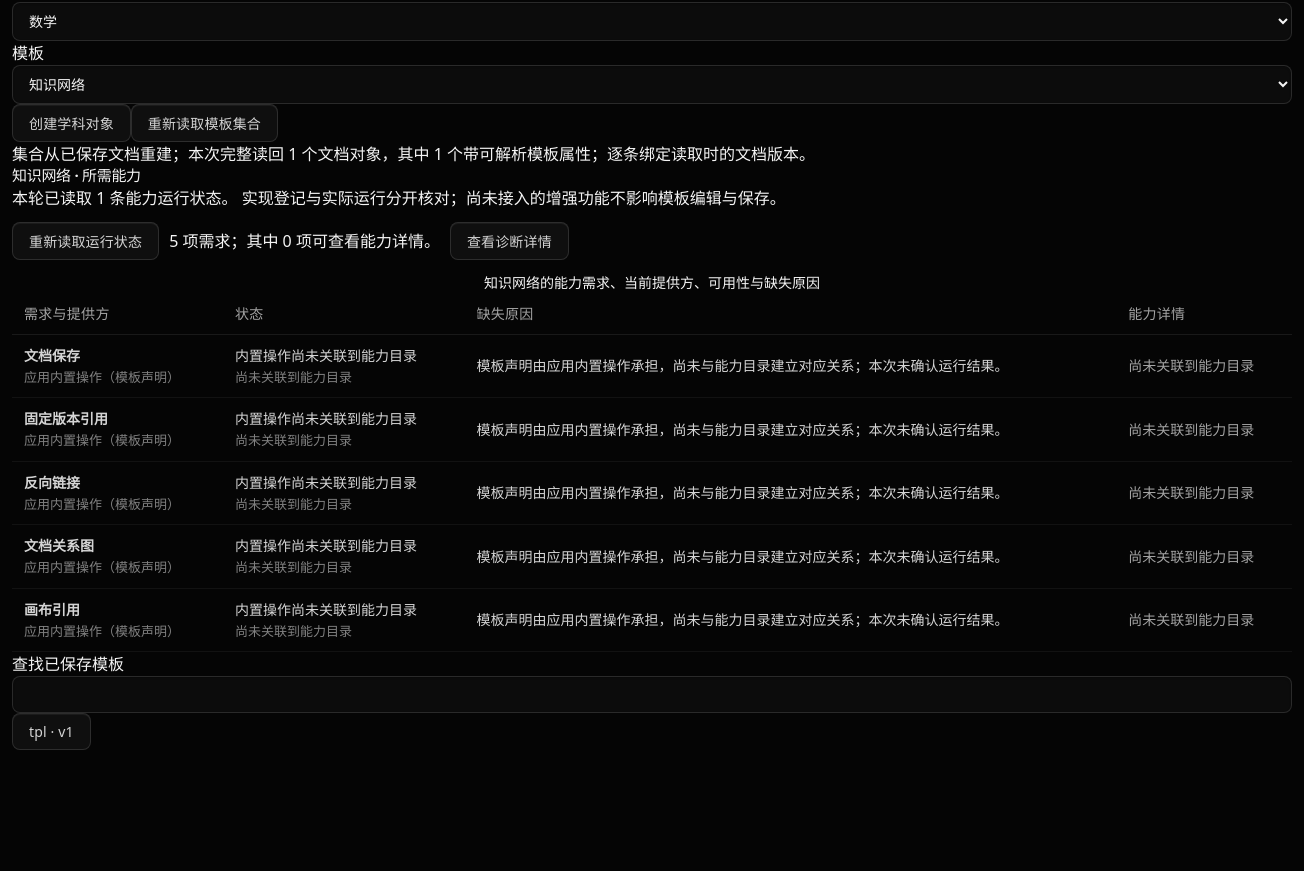
Test: template detail renders the requirement table › does not promote a connection observation into a successful template task: {"enabled":true,"health":"starting"}
This screenshot has width=1304, height=871.
Click the button "tpl · v1": (51, 732) [12,713,91,750]
(page scrolled)
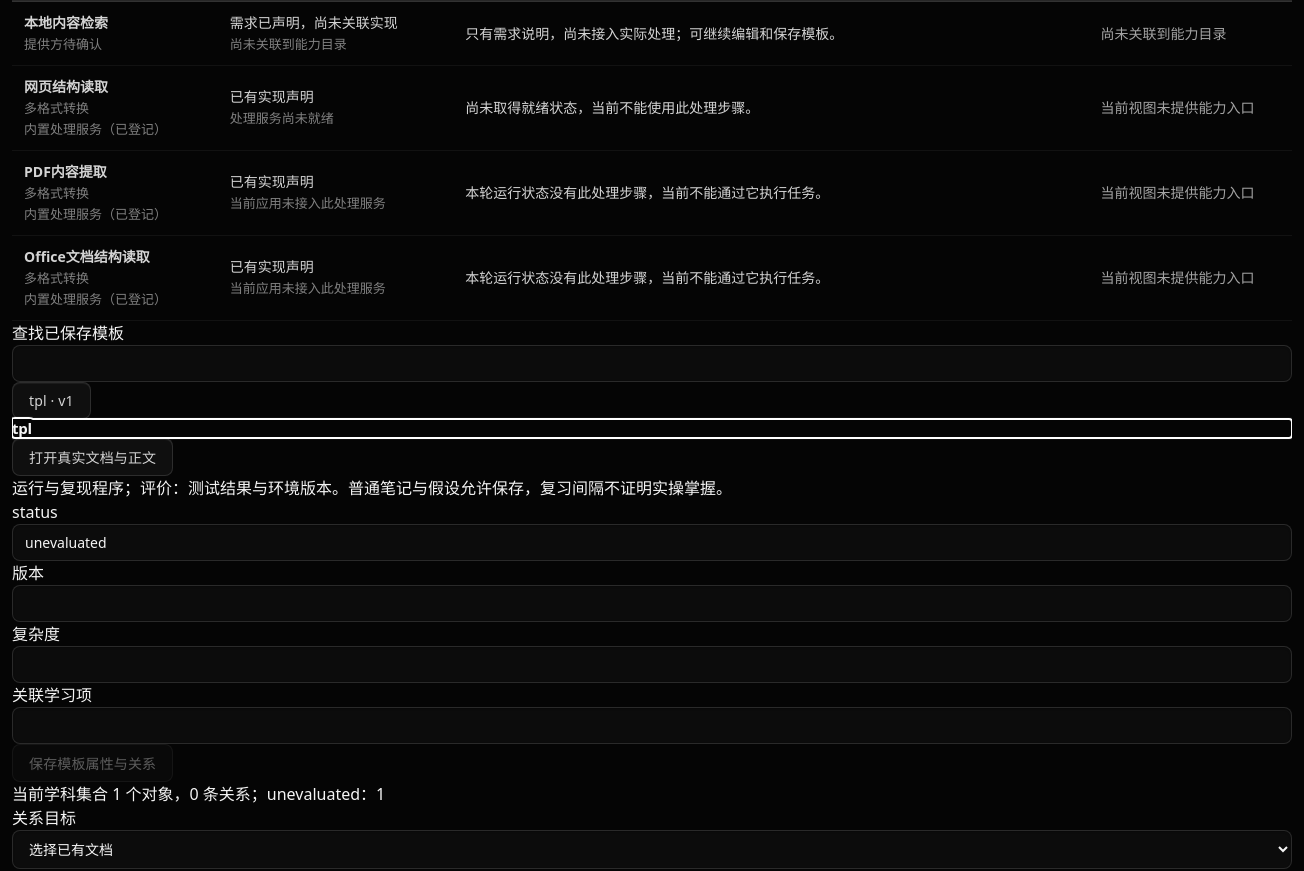
Now the row "网页结构读取" shows "已有实现声明", box [230,87,314,106]
Now the row "网页结构读取" shows "处理服务尚未就绪", box [230,109,334,127]
Now the row "网页结构读取" shows "当前不能使用此处理步骤", box [465,98,759,117]
